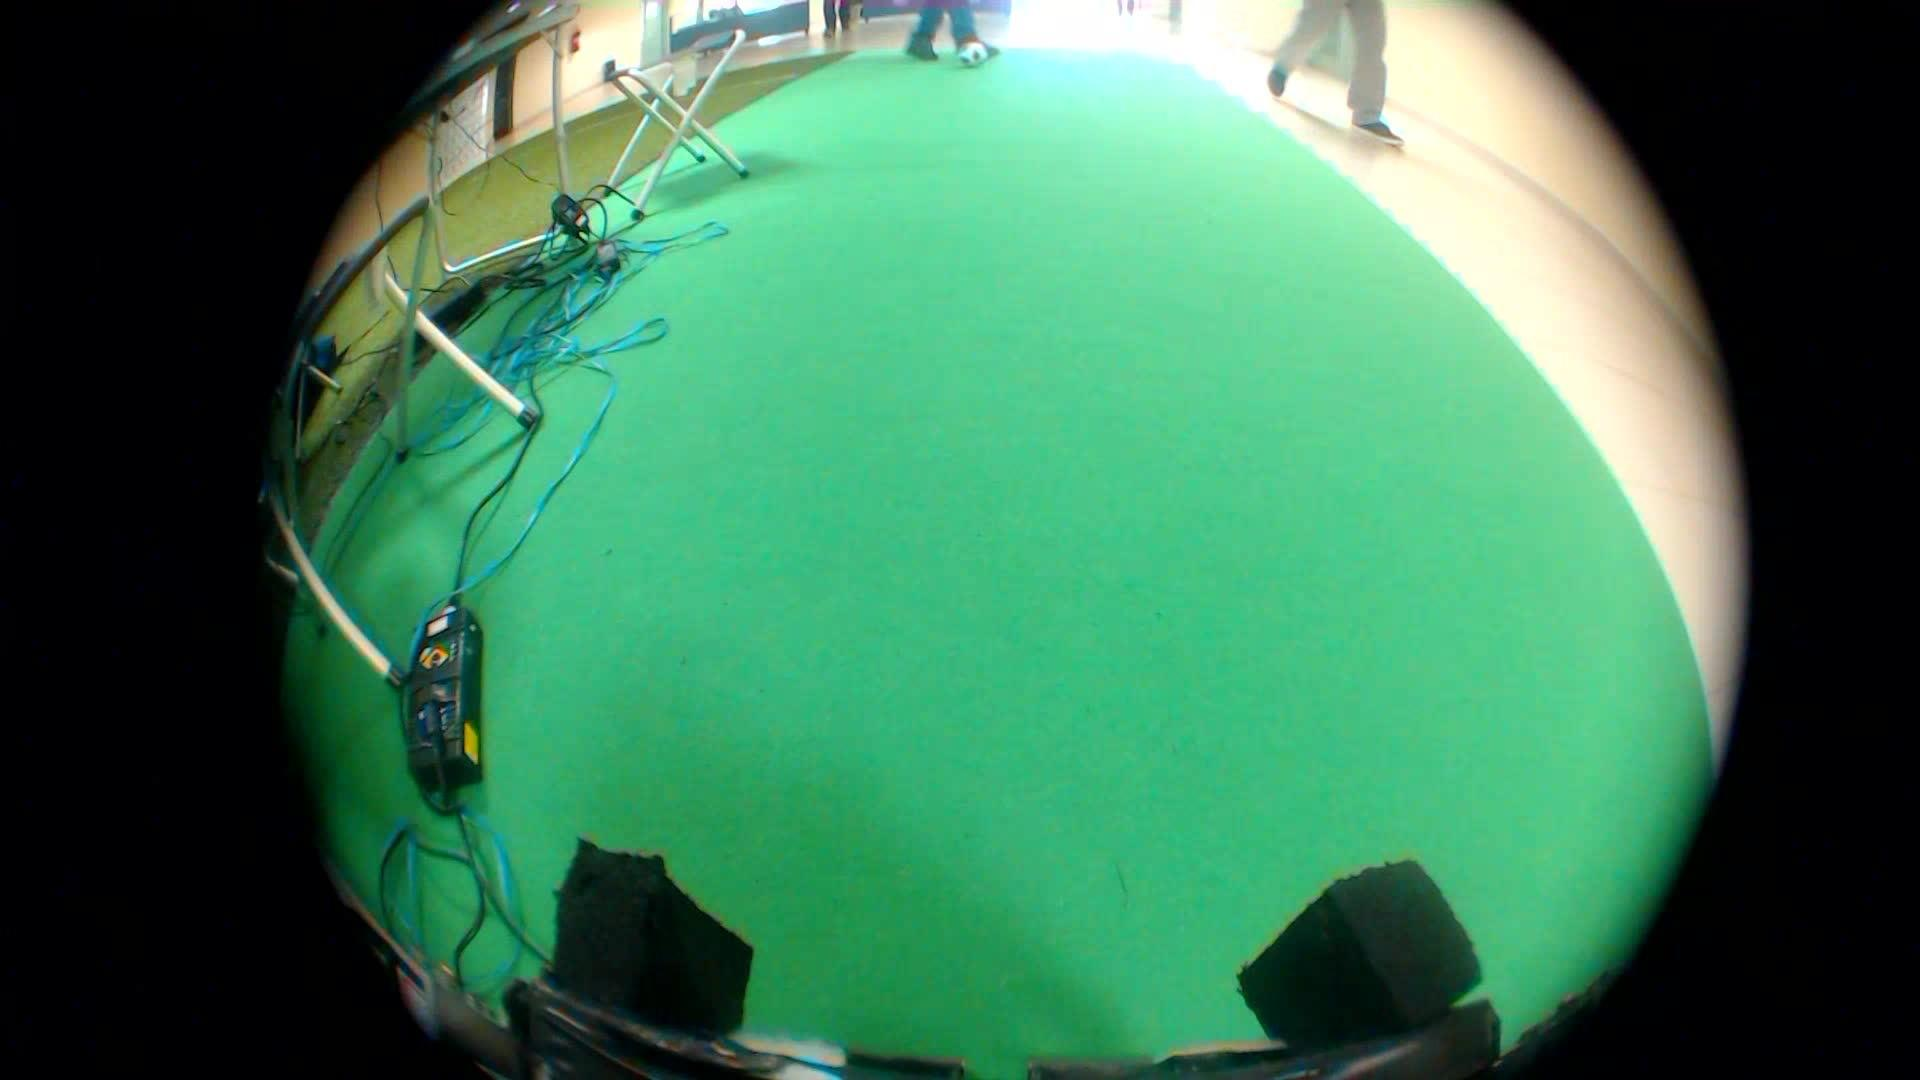ball: (938, 33, 980, 74)
